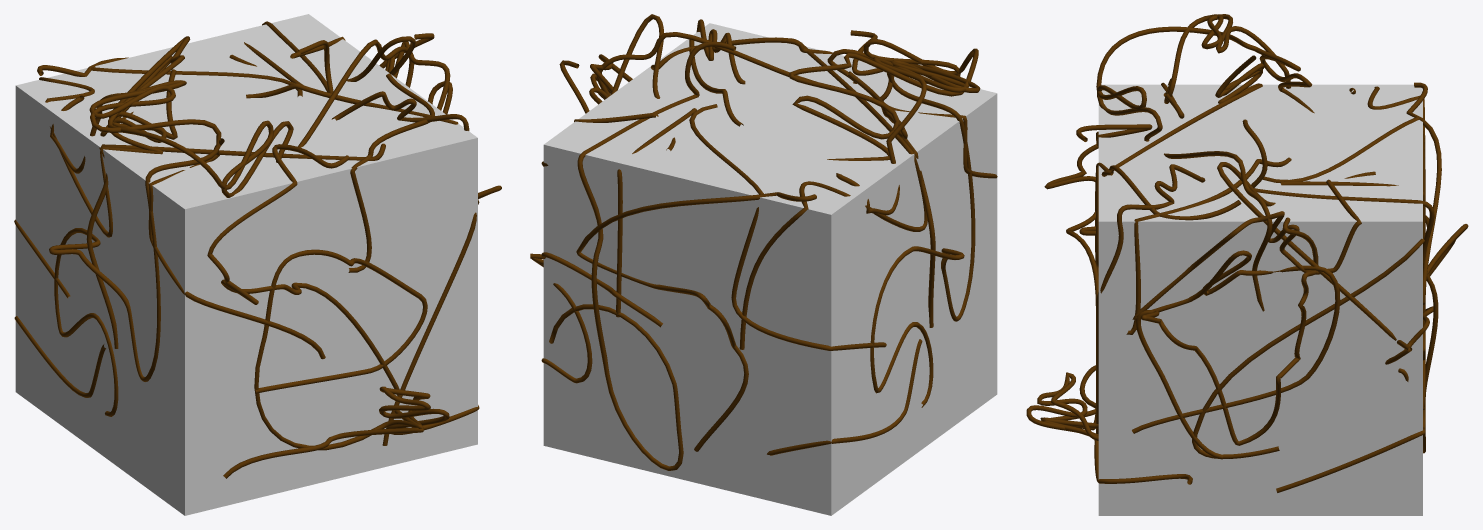
Rendered from Leafbox.fbx.
3 renders of one model, left to right at view 1: azimuth 30°, elevation 25°; view 2: azimuth 150°, elevation 25°; view 3: azimuth 270°, elevation 25°, orthographic. The views are drawn at different scales.
Visible parts, largest first — view 1: Cube, BezierCurve; view 2: Cube, BezierCurve; view 3: Cube, BezierCurve.
Boxes of the visible parts, x1,y1,x2,y2 form: Cube: [15, 14, 477, 515]; BezierCurve: [14, 21, 501, 478]; Cube: [543, 23, 997, 515]; BezierCurve: [530, 14, 997, 470]; Cube: [1098, 84, 1422, 515]; BezierCurve: [1026, 14, 1468, 492].
Size of the model in its own units: 271 by 252 by 272.
